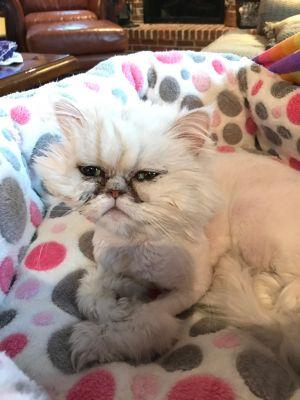persian: (50, 83, 211, 256)
